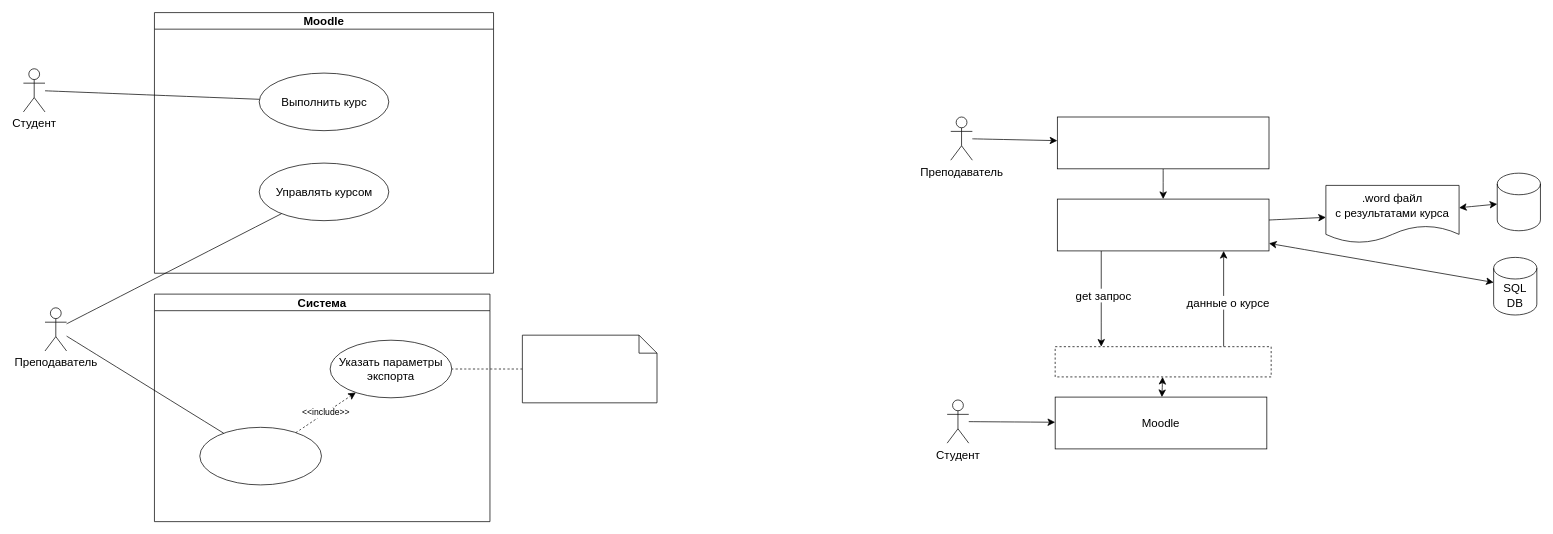
This 1553x534 diagram has some shape labels left out. Each missing label, with the centre of its shape:
- Курс - Формат экспорта: pixel 589 368
Backend: pixel 1163 224
Frontend: pixel 1163 142
Moodle open API layer: pixel 1162 361
object storage: pixel 1518 201
Выгрузить курс: pixel 260 456
